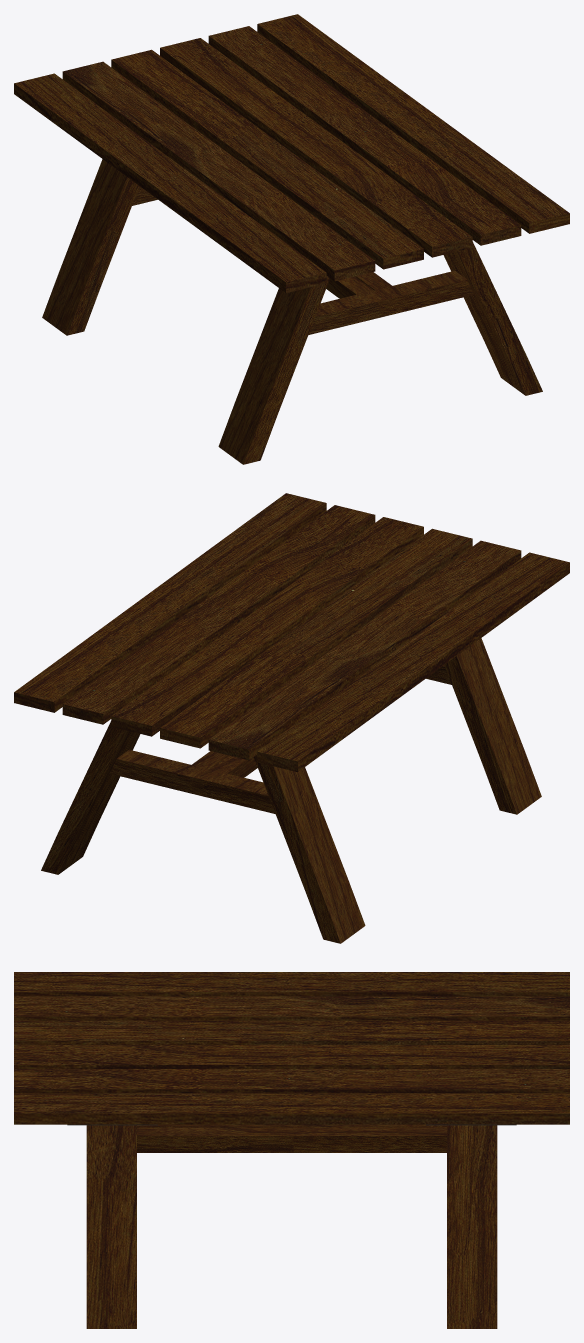
Rendered from benk2.fbx.
The picture shows the model from 3 angles, top to bottom: view 1: azimuth 30°, elevation 25°; view 2: azimuth 150°, elevation 25°; view 3: azimuth 270°, elevation 25°; orthographic projection. The views are drawn at different scales.
Parts seen in each view (by area): view 1: Plane.001; view 2: Plane.001; view 3: Plane.001.
Boxes of the visible parts, x1=… form: Plane.001: x1=14, y1=14, x2=569, y2=464; Plane.001: x1=14, y1=493, x2=569, y2=943; Plane.001: x1=14, y1=972, x2=569, y2=1328.
Size of the model in its own units: 175 by 115 by 275.
